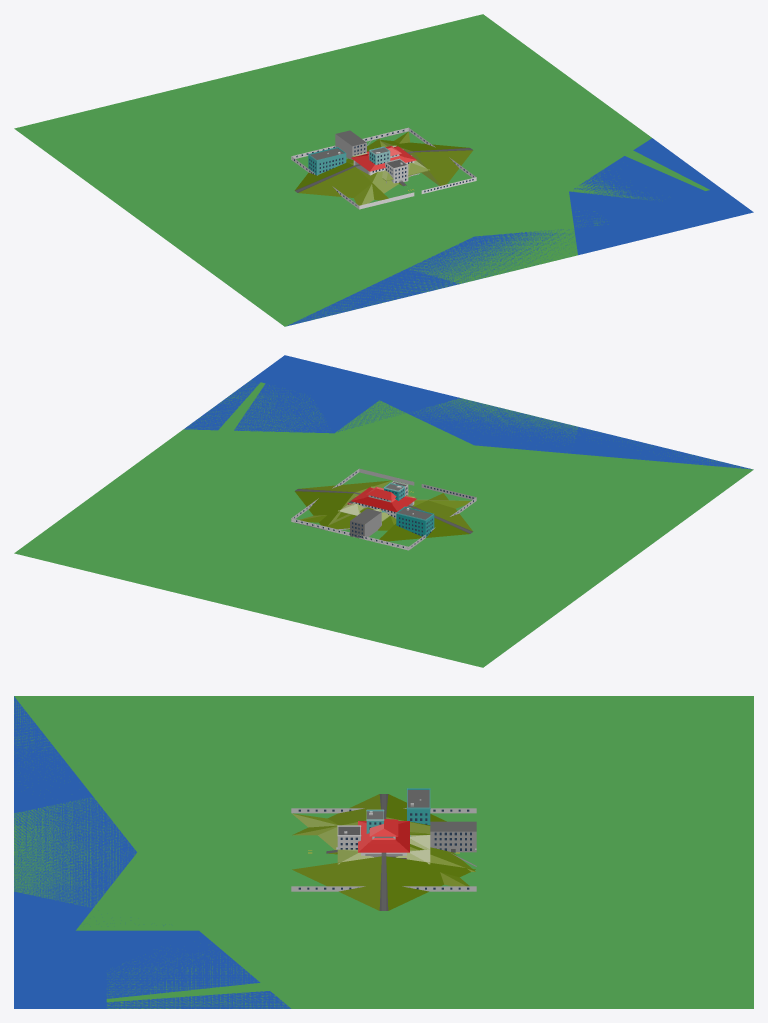
The picture shows the model from 3 angles, top to bottom: view 1: azimuth 30°, elevation 25°; view 2: azimuth 150°, elevation 25°; view 3: azimuth 270°, elevation 25°; orthographic projection. The views are drawn at different scales.
Visible parts, largest first — view 1: vn_057_lod0, vn_060_lod0, vn_002_lod0, vn_058_lod0, vn_001_lod0, vn_087_lod0, vn_070_lod0, vn_029_lod0, vn_062_lod0_s1v0, vn_081_lod0, vn_003_lod0, vn_071_lod0 (+1 smaller); view 2: vn_057_lod0, vn_060_lod0, vn_002_lod0, vn_058_lod0, vn_001_lod0, vn_029_lod0, vn_070_lod0, vn_062_lod0_s1v0, vn_081_lod0, vn_087_lod0, vn_003_lod0, vn_062_lod0_s1v0_detail; view 3: vn_057_lod0, vn_060_lod0, vn_002_lod0, vn_058_lod0, vn_070_lod0, vn_001_lod0, vn_081_lod0, vn_029_lod0, vn_062_lod0_s1v0, vn_087_lod0, vn_071_lod0, vn_003_lod0 (+3 smaller).
Boxes of the visible parts, bbox=[...] form: vn_057_lod0: bbox=[14, 14, 752, 326]; vn_060_lod0: bbox=[14, 42, 752, 325]; vn_002_lod0: bbox=[417, 14, 651, 190]; vn_058_lod0: bbox=[288, 191, 753, 325]; vn_001_lod0: bbox=[286, 269, 459, 326]; vn_087_lod0: bbox=[294, 162, 388, 200]; vn_070_lod0: bbox=[376, 139, 473, 185]; vn_029_lod0: bbox=[291, 127, 476, 209]; vn_062_lod0_s1v0: bbox=[308, 130, 410, 175]; vn_081_lod0: bbox=[569, 150, 709, 199]; vn_003_lod0: bbox=[346, 138, 410, 205]; vn_071_lod0: bbox=[389, 141, 471, 184]; vn_057_lod0: bbox=[14, 355, 753, 667]; vn_060_lod0: bbox=[131, 355, 746, 667]; vn_002_lod0: bbox=[14, 429, 333, 556]; vn_058_lod0: bbox=[285, 355, 750, 468]; vn_001_lod0: bbox=[574, 427, 753, 469]; vn_029_lod0: bbox=[291, 468, 476, 550]; vn_070_lod0: bbox=[294, 480, 391, 526]; vn_062_lod0_s1v0: bbox=[347, 484, 434, 539]; vn_081_lod0: bbox=[184, 380, 327, 432]; vn_087_lod0: bbox=[379, 493, 473, 541]; vn_003_lod0: bbox=[326, 499, 470, 530]; vn_062_lod0_s1v0_detail: bbox=[347, 482, 434, 537]; vn_057_lod0: bbox=[14, 696, 753, 1008]; vn_060_lod0: bbox=[14, 696, 753, 1008]; vn_002_lod0: bbox=[200, 931, 753, 1008]; vn_058_lod0: bbox=[14, 697, 198, 1008]; vn_070_lod0: bbox=[292, 856, 475, 910]; vn_001_lod0: bbox=[14, 696, 92, 813]; vn_081_lod0: bbox=[106, 953, 289, 1008]; vn_029_lod0: bbox=[291, 808, 476, 891]; vn_062_lod0_s1v0: bbox=[366, 790, 476, 859]; vn_087_lod0: bbox=[292, 794, 446, 835]; vn_071_lod0: bbox=[293, 857, 469, 908]; vn_003_lod0: bbox=[292, 813, 475, 871].
Size of what is drawn, in the model's own units: 4096 by 211 by 4096.
